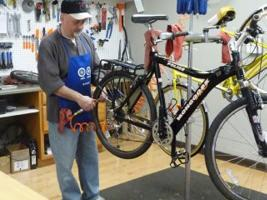person: (37, 1, 108, 200)
